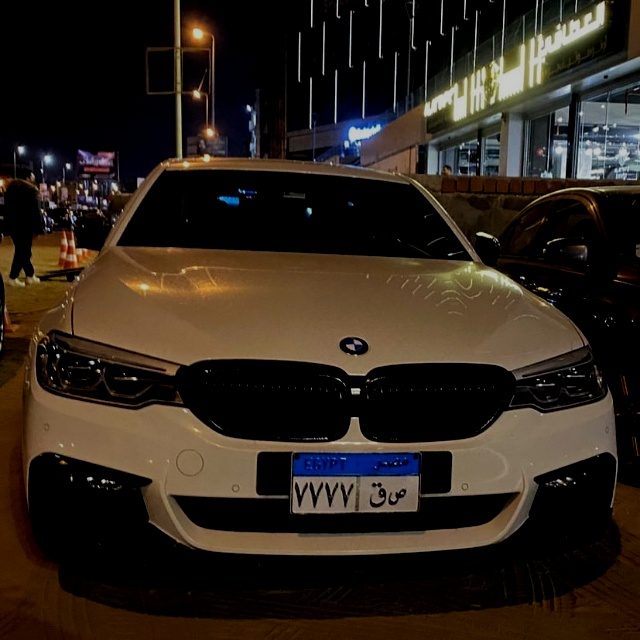License Plate: (289, 450, 422, 518)
